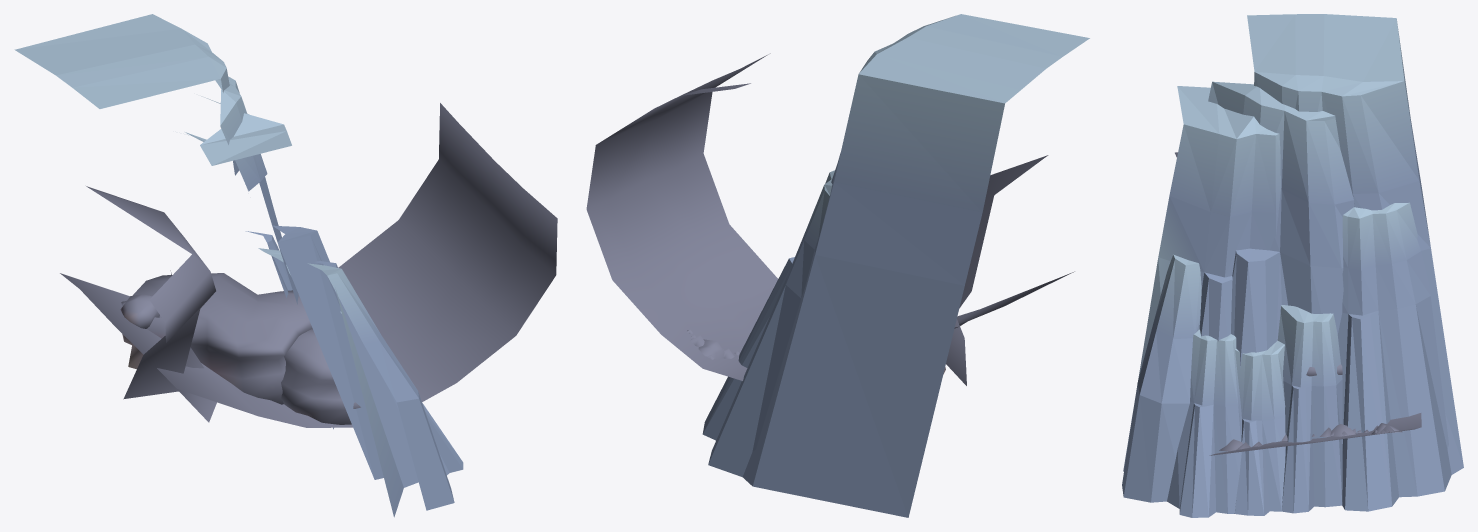
File: Arctic_Luge_TunnelObstacle_Right_Mid_B.glb
3 renders of one model, left to right at view 1: azimuth 30°, elevation 25°; view 2: azimuth 150°, elevation 25°; view 3: azimuth 270°, elevation 25°, orthographic. The views are drawn at different scales.
Visible parts, largest first — view 1: Arctic_Luge_TunnelObstacle_Right_Mid_B, Arctic_Narrows_Right_IceWall_A02, Arctic_Narrows_Right_IceWall_A02_Left, Arctic_Narrows_Right_IceWall_A02_Right; view 2: Arctic_Narrows_Right_IceWall_A02, Arctic_Luge_TunnelObstacle_Right_Mid_B, Arctic_Narrows_Right_IceWall_A02_Right; view 3: Arctic_Narrows_Right_IceWall_A02, Arctic_Narrows_Right_IceWall_A02_Right, Arctic_Narrows_Right_IceWall_A02_Left, Arctic_Narrows_Right_IceWall_A02_Mid, Arctic_Luge_TunnelObstacle_Right_Mid_B.
Boxes of the visible parts, box(x1,y1,x2,y2) form: Arctic_Luge_TunnelObstacle_Right_Mid_B: box(60, 103, 557, 427); Arctic_Narrows_Right_IceWall_A02: box(14, 14, 418, 517); Arctic_Narrows_Right_IceWall_A02_Left: box(307, 263, 463, 510); Arctic_Narrows_Right_IceWall_A02_Right: box(185, 132, 333, 429); Arctic_Narrows_Right_IceWall_A02: box(742, 14, 1089, 517); Arctic_Luge_TunnelObstacle_Right_Mid_B: box(586, 53, 1074, 385); Arctic_Narrows_Right_IceWall_A02_Right: box(702, 170, 834, 476); Arctic_Narrows_Right_IceWall_A02: box(1123, 14, 1463, 474); Arctic_Narrows_Right_IceWall_A02_Right: box(1337, 202, 1451, 511); Arctic_Narrows_Right_IceWall_A02_Left: box(1122, 254, 1241, 517); Arctic_Narrows_Right_IceWall_A02_Mid: box(1234, 305, 1342, 515); Arctic_Luge_TunnelObstacle_Right_Mid_B: box(1175, 152, 1421, 455).
Size of what is drawn, in the model's own units: 5.11 by 4.78 by 4.09.
